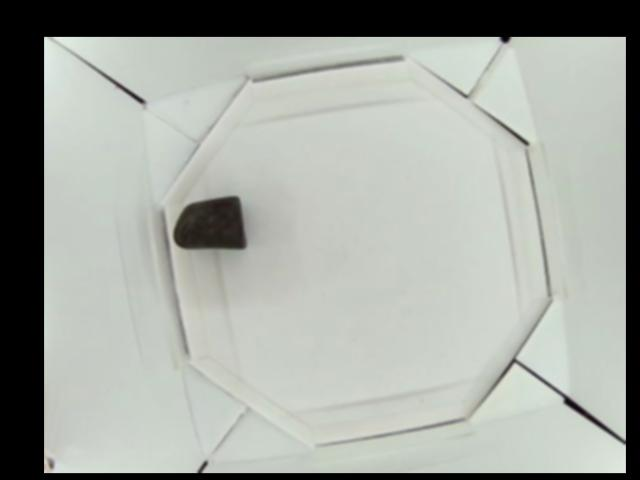Pebble: (175, 194, 247, 251)
